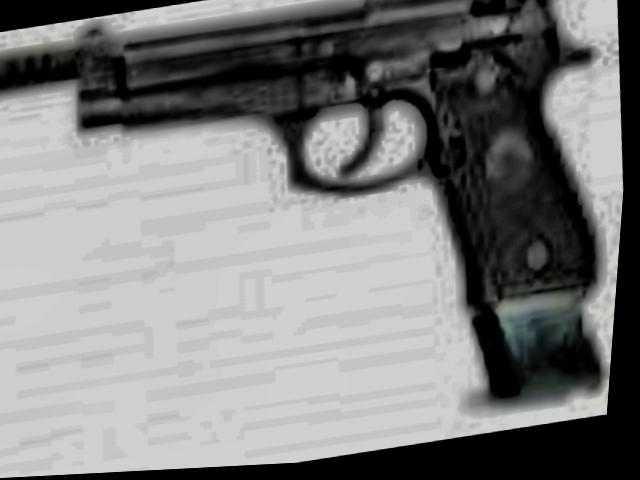pistol: (0, 0, 623, 393)
